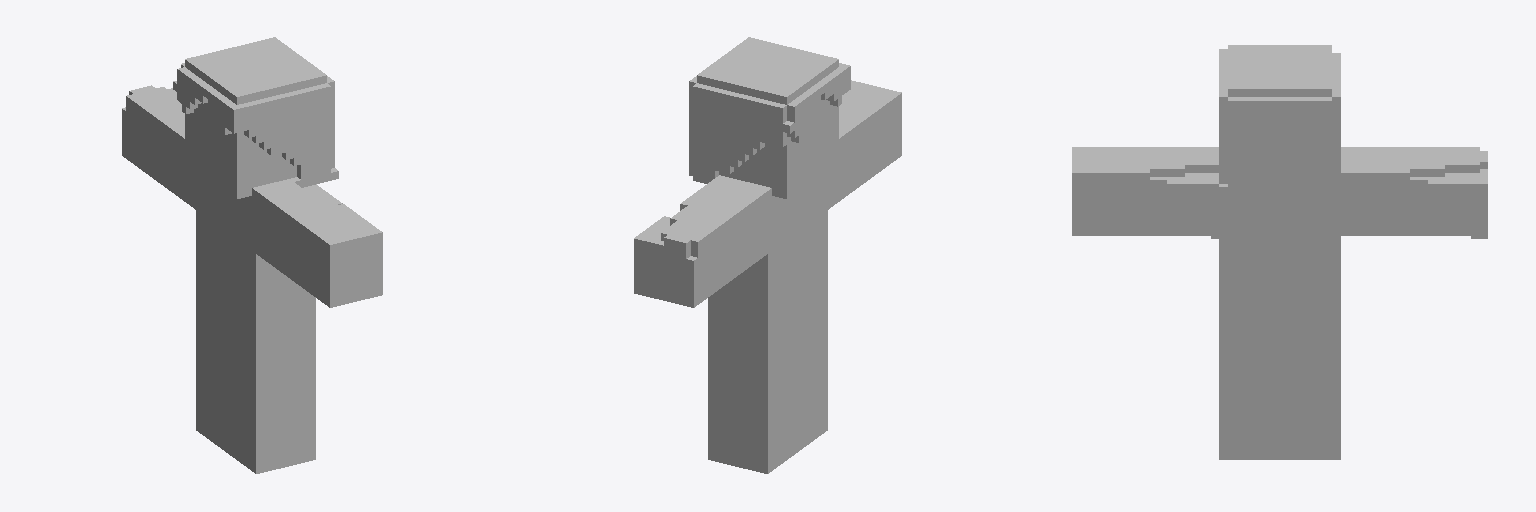
File: personaje pintado.obj
The picture shows the model from 3 angles: view 1: azimuth 30°, elevation 25°; view 2: azimuth 150°, elevation 25°; view 3: azimuth 270°, elevation 25°; orthographic projection.
Parts seen in each view (by area): view 1: object 1; view 2: object 1; view 3: object 1.
Part boxes in pixels (left/top/right/bottom): object 1: left=122, top=37, right=382, bottom=473; object 1: left=634, top=37, right=901, bottom=473; object 1: left=1072, top=45, right=1487, bottom=459.
Bounding box in the file's own units: 1.4 × 4.8 × 4.8.